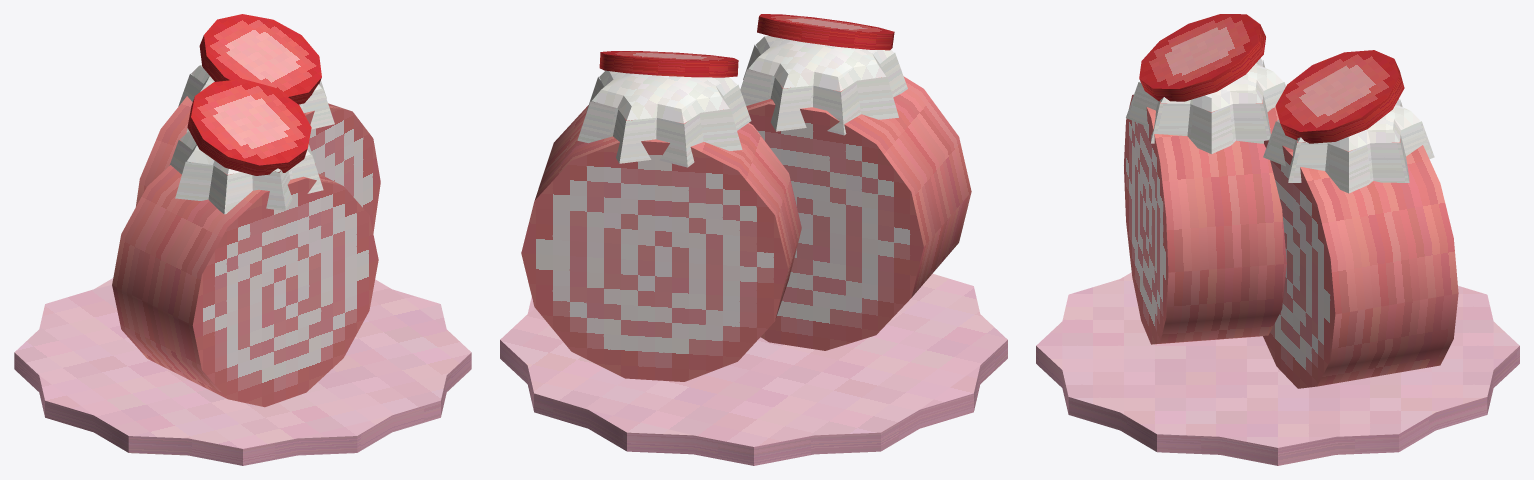
Rendered from food_rollcake.glb.
3 views of the same model, side by side, from view 1: azimuth 30°, elevation 25°; view 2: azimuth 150°, elevation 25°; view 3: azimuth 270°, elevation 25° (orthographic). The views are drawn at different scales.
Parts seen in each view (by area): view 1: Food_RollCake; view 2: Food_RollCake; view 3: Food_RollCake.
Boxes of the visible parts, x1=… form: Food_RollCake: x1=14, y1=14, x2=471, y2=465; Food_RollCake: x1=500, y1=14, x2=1007, y2=465; Food_RollCake: x1=1036, y1=14, x2=1519, y2=465.
Bounding box in the file's own units: 1 × 0.7302 × 1.
1 material, 1 textured.
